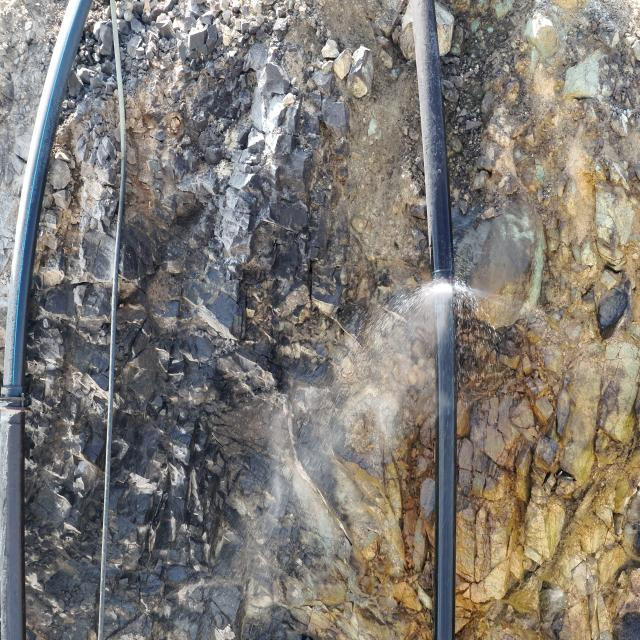leak: (195, 271, 536, 640)
